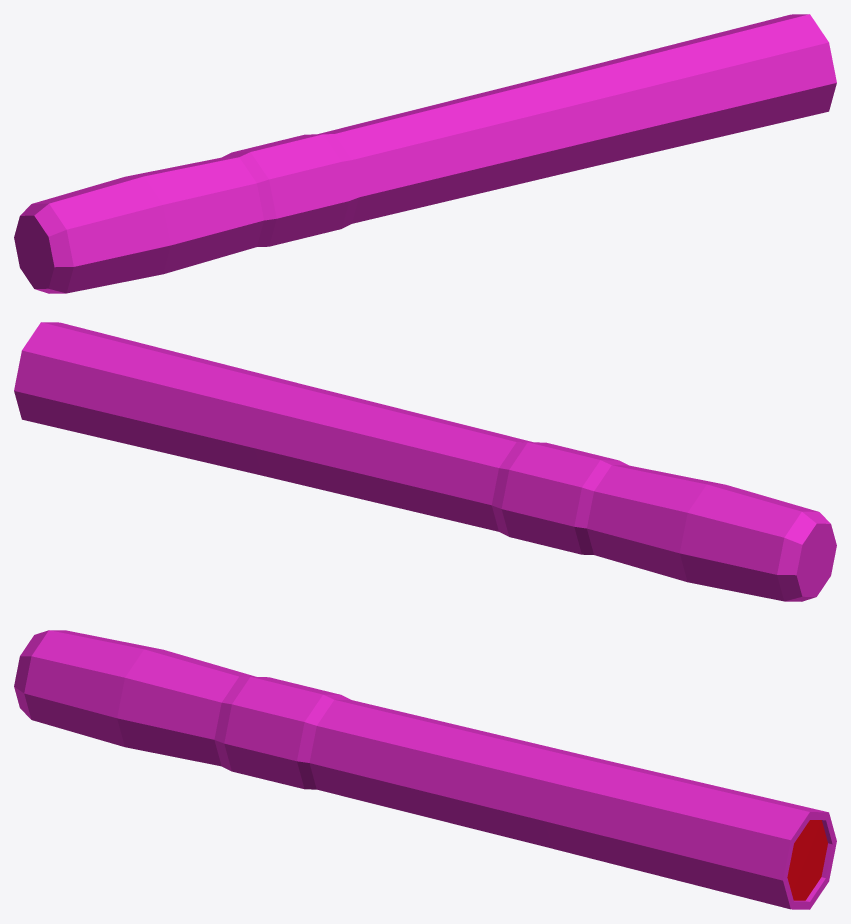
Rendered from Sigar.fbx.
3 views of the same model, one above another, from view 1: azimuth 30°, elevation 25°; view 2: azimuth 150°, elevation 25°; view 3: azimuth 330°, elevation 25° (orthographic).
Parts seen in each view (by area): view 1: Cylinder.005; view 2: Cylinder.005; view 3: Cylinder.005.
Boxes of the visible parts, x1,y1,x2,y2 form: Cylinder.005: (14, 14, 836, 293); Cylinder.005: (14, 322, 836, 601); Cylinder.005: (14, 630, 836, 909).
Bounding box in the file's own units: 18 × 2.18 × 2.18.
